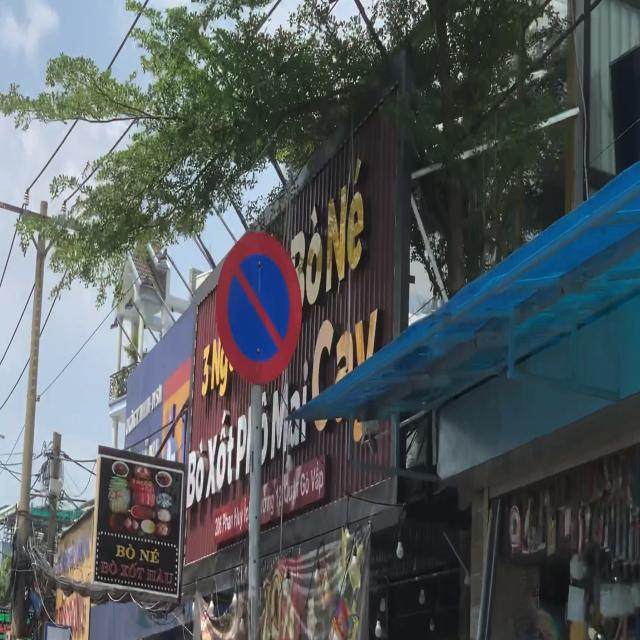Ben xe buyt: (41, 618, 73, 640)
Cam do: (211, 224, 301, 386)
